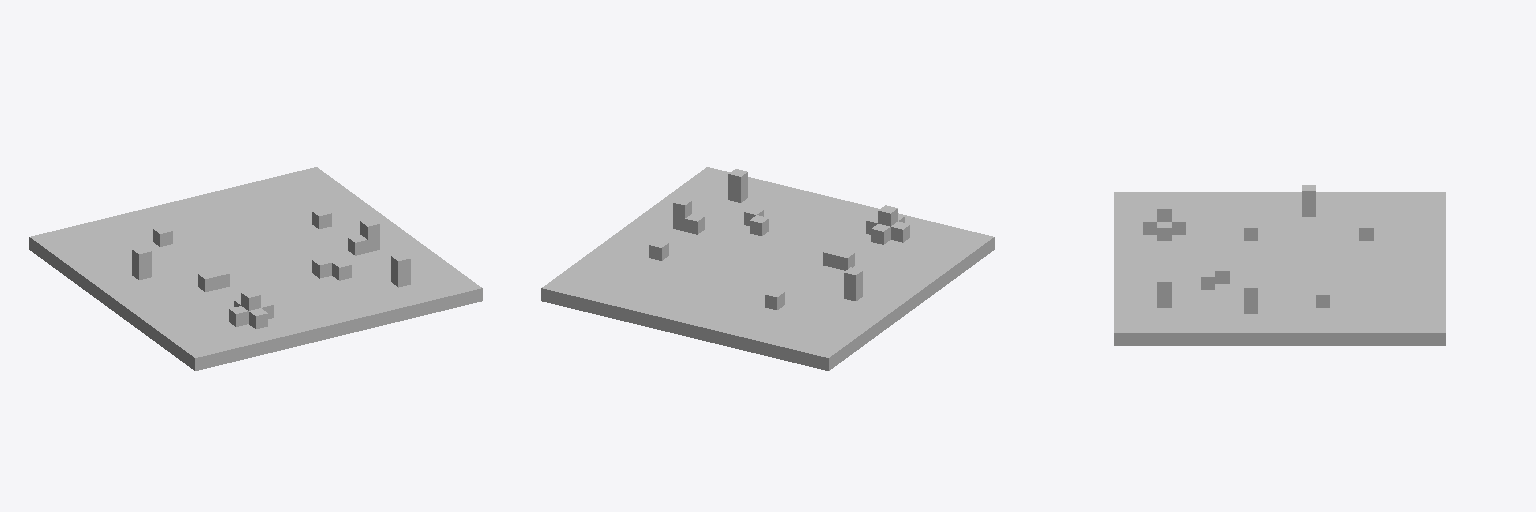
File: Cave Tile 1.obj
The picture shows the model from 3 angles: view 1: azimuth 30°, elevation 25°; view 2: azimuth 150°, elevation 25°; view 3: azimuth 270°, elevation 25°; orthographic projection.
Visible parts, largest first — view 1: object 1; view 2: object 1; view 3: object 1.
Boxes of the visible parts, box(x1,y1,x2,y2) form: object 1: box(29, 167, 482, 370); object 1: box(541, 167, 994, 370); object 1: box(1114, 185, 1445, 345).
Bounding box in the file's own units: 2.3 × 0.3 × 2.3.